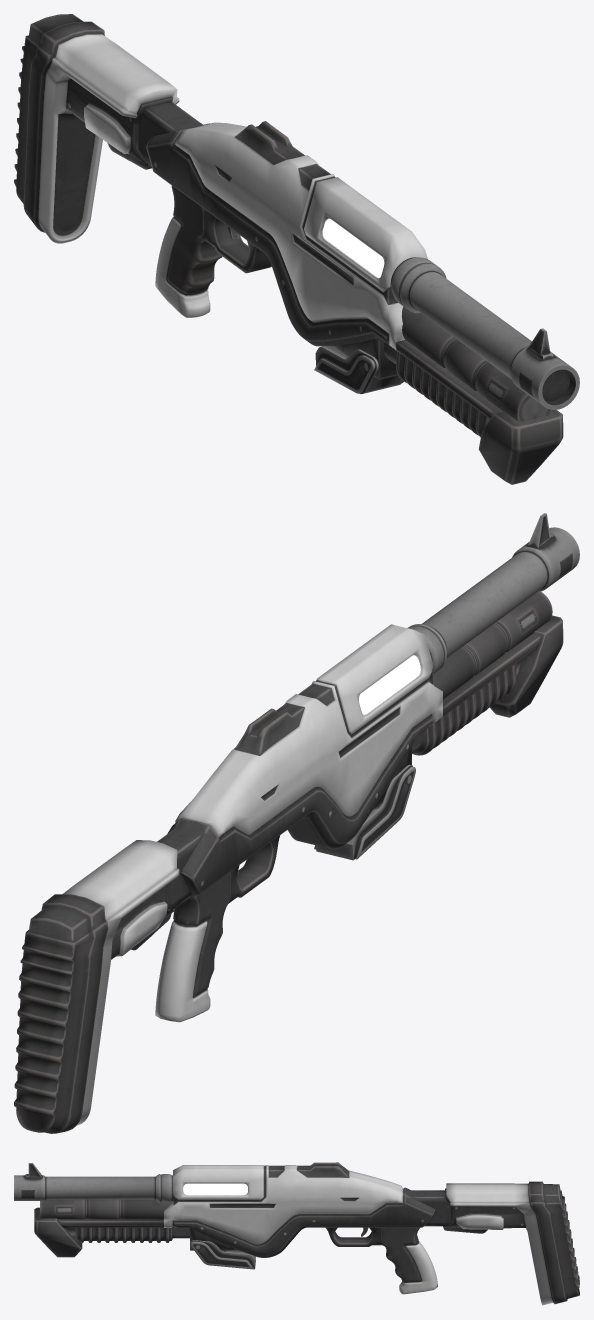
Rendered from SciFiShotGun02_2.FBX.
The picture shows the model from 3 angles, top to bottom: view 1: azimuth 30°, elevation 25°; view 2: azimuth 150°, elevation 25°; view 3: azimuth 270°, elevation 25°; orthographic projection. The views are drawn at different scales.
Parts seen in each view (by area): view 1: SciFiShotGun02_2, Pump, Cover; view 2: SciFiShotGun02_2, Cover, Pump; view 3: SciFiShotGun02_2, Pump, Cover.
Part boxes in pixels (x1,y1,x2,y2): SciFiShotGun02_2: [14, 14, 579, 484]; Pump: [384, 342, 489, 437]; Cover: [314, 346, 403, 393]; SciFiShotGun02_2: [14, 513, 579, 1133]; Cover: [314, 764, 415, 860]; Pump: [412, 663, 516, 755]; SciFiShotGun02_2: [14, 1162, 579, 1305]; Pump: [75, 1226, 189, 1242]; Cover: [190, 1240, 255, 1269].
Size of what is drawn, in the model's own units: 0.0605 by 0.2463 by 0.9006.
